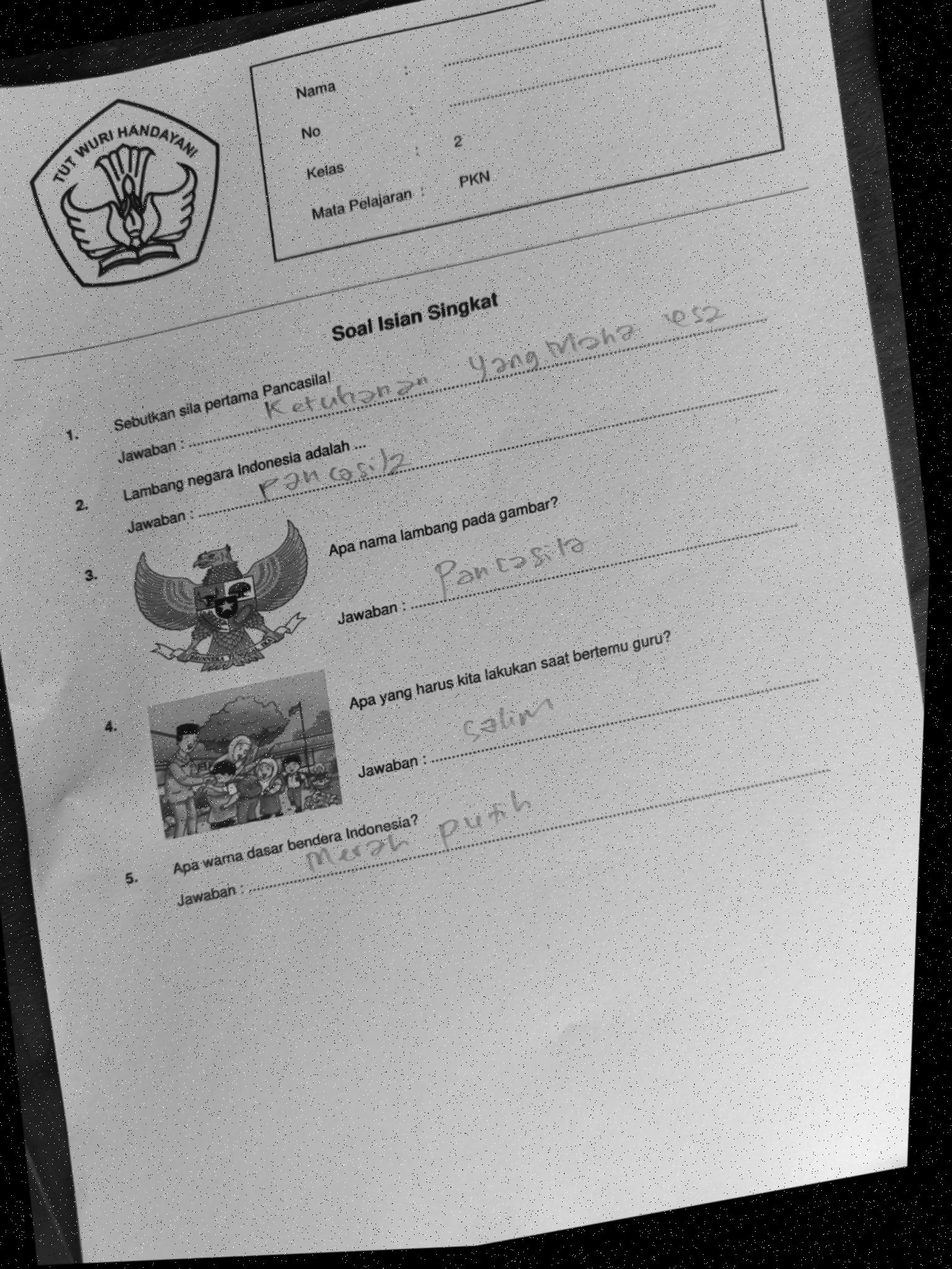soal-1: (56, 259, 784, 490)
soal-2: (63, 334, 794, 559)
soal-3: (71, 399, 814, 706)
soal-4: (86, 556, 838, 861)
soal-5: (108, 704, 852, 939)
